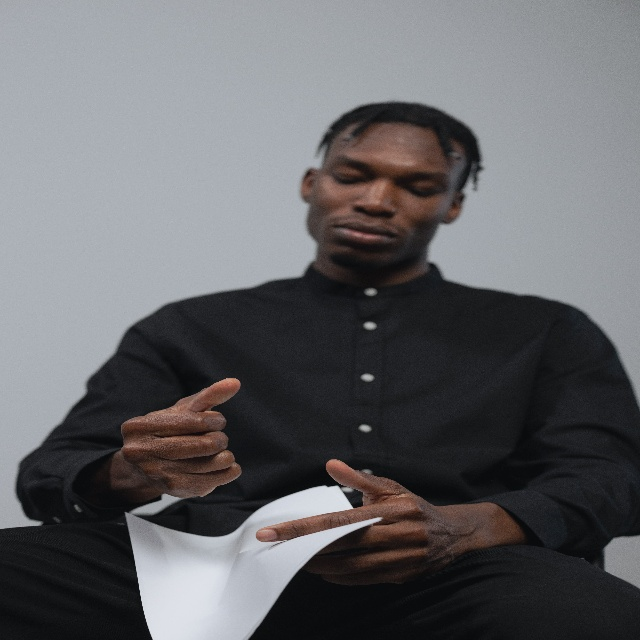Sin_guantes: (256, 457, 455, 588), (121, 377, 242, 501)
